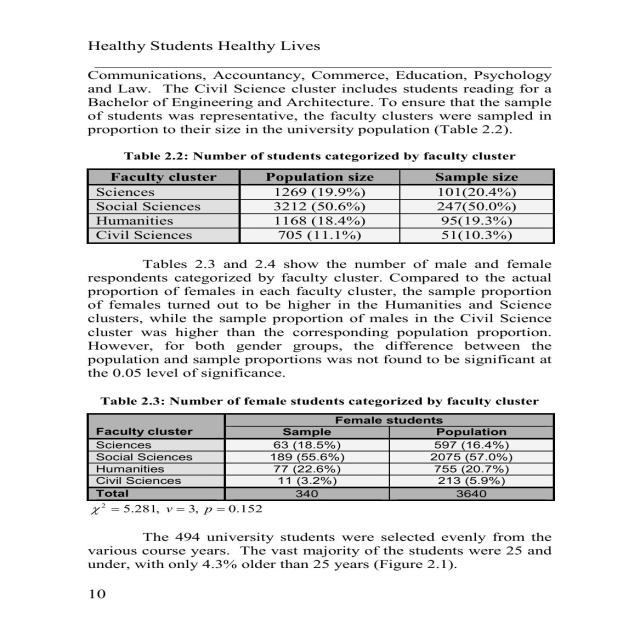table: (94, 414, 512, 497), (94, 170, 518, 239)
